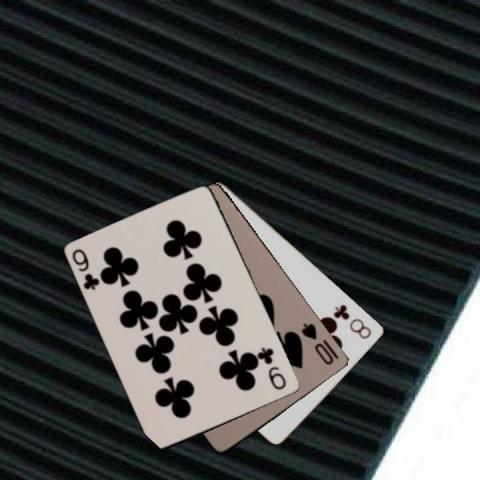10s: (299, 320, 336, 367)
8c: (332, 301, 374, 341)
9c: (69, 246, 102, 292), (257, 344, 288, 391)
